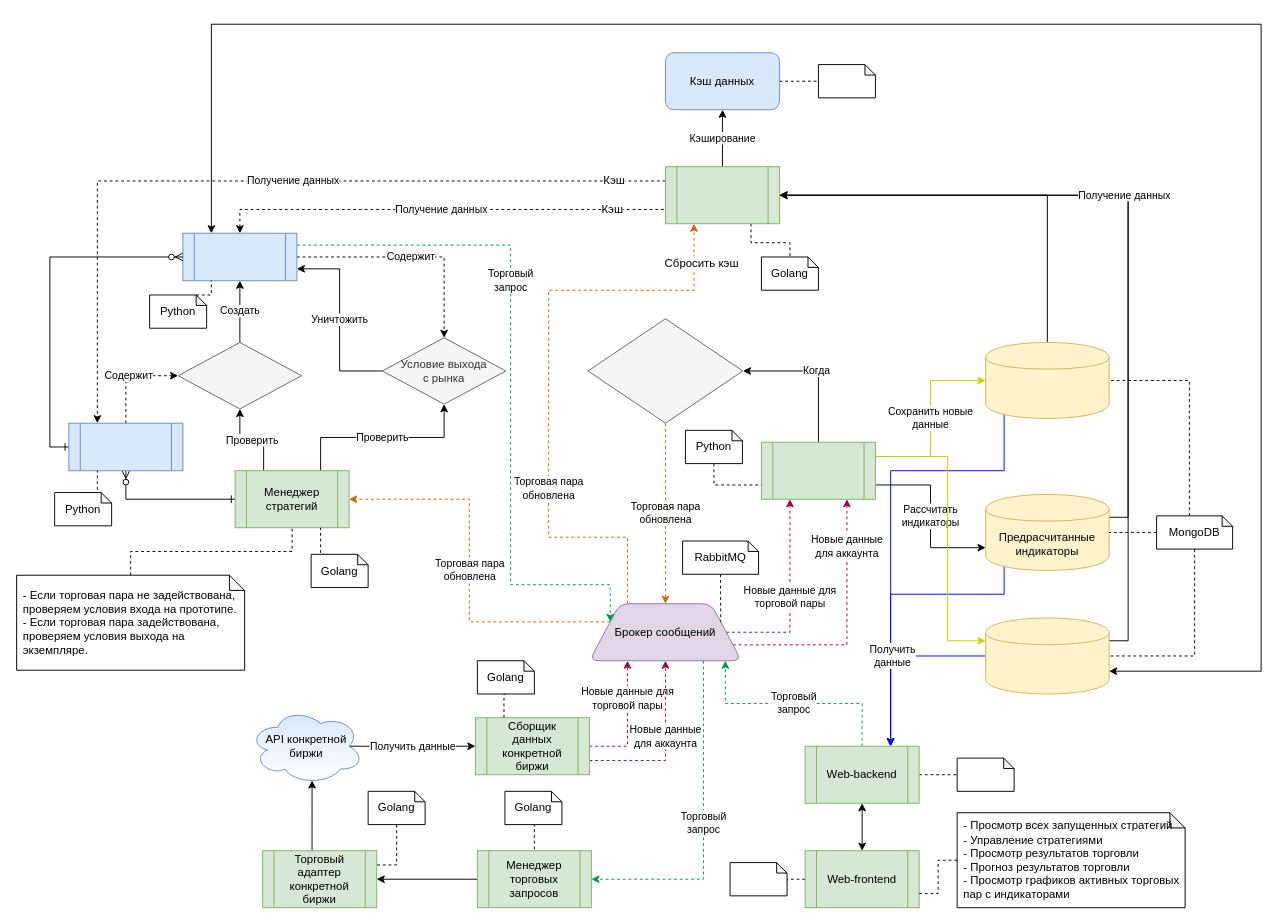
Some shapes in this 1286 by 924 pixel diagram are drawn without their labels. The centre of each missing label's shape, as x and y in pixels:
Candlesticks: the point at 1047,380
NodeJS: the point at 985,774
Redis: the point at 846,81
Vue.JS: the point at 758,879
Агрегатор данных: the point at 817,470
Данные сохранены и индикаторы перерасчитанны: the point at 665,370
Данные стратегий и аккаунтов: the point at 1047,655
Прототип стратегии: the point at 125,446
Сервис данных: the point at 722,195
Условие входа на рынок: the point at 239,375
Экземпляр стратегии: the point at 239,256
